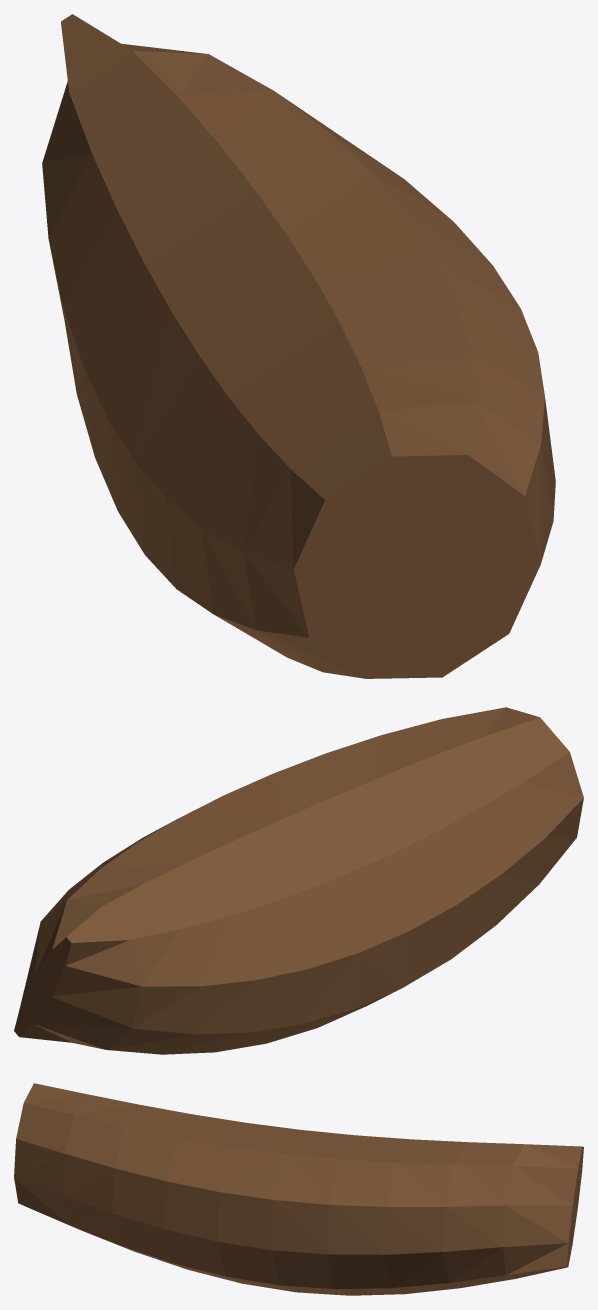
The model's file is WreckCollider.obj.
3 renders of one model, top to bottom at view 1: azimuth 30°, elevation 25°; view 2: azimuth 150°, elevation 25°; view 3: azimuth 270°, elevation 25°, orthographic. The views are drawn at different scales.
Parts seen in each view (by area): view 1: WreckCollider; view 2: WreckCollider; view 3: WreckCollider.
Boxes of the visible parts, x1,y1,x2,y2 form: WreckCollider: (42,14,555,678); WreckCollider: (14,707,583,1054); WreckCollider: (14,1083,583,1295).
Bounding box in the file's own units: 4.96 × 3.36 × 10.61.
